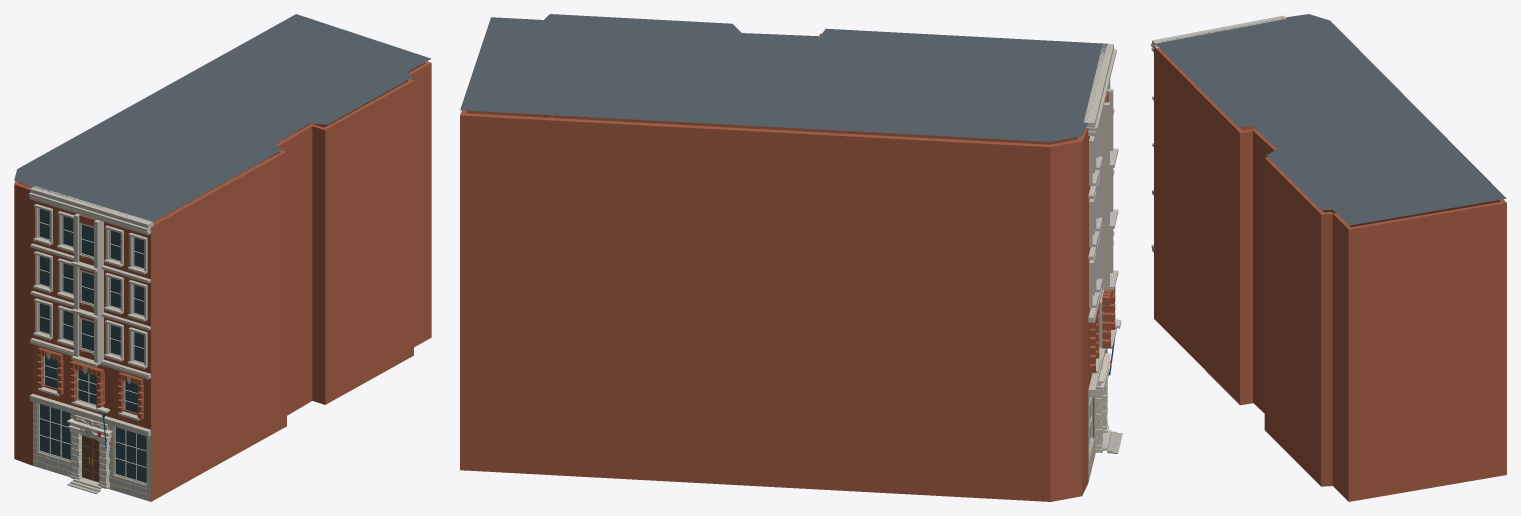
Rendered from ksw-exterior-309e4837359f.glb.
3 views of the same model, side by side, from view 1: azimuth 30°, elevation 25°; view 2: azimuth 150°, elevation 25°; view 3: azimuth 270°, elevation 25° (orthographic). The views are drawn at different scales.
Parts seen in each view (by area): view 1: KSW.001; view 2: KSW.001; view 3: KSW.001.
Boxes of the visible parts, x1,y1,x2,y2 form: KSW.001: [14, 14, 431, 501]; KSW.001: [460, 14, 1122, 501]; KSW.001: [1151, 14, 1506, 501].
Bounding box in the file's own units: 33.77 × 20.55 × 23.99.
